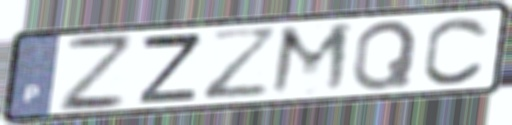C: (420, 14, 493, 87)
M: (266, 20, 356, 99)
Q: (348, 17, 421, 93)
Z: (200, 25, 284, 104), (57, 34, 134, 115), (136, 31, 205, 105)
